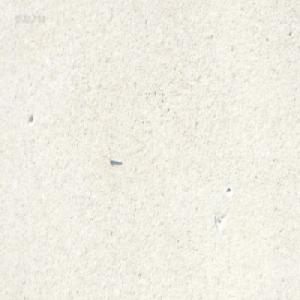Nail: (108, 155, 121, 164)
